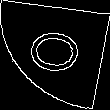O_E: (22, 29, 88, 81)
